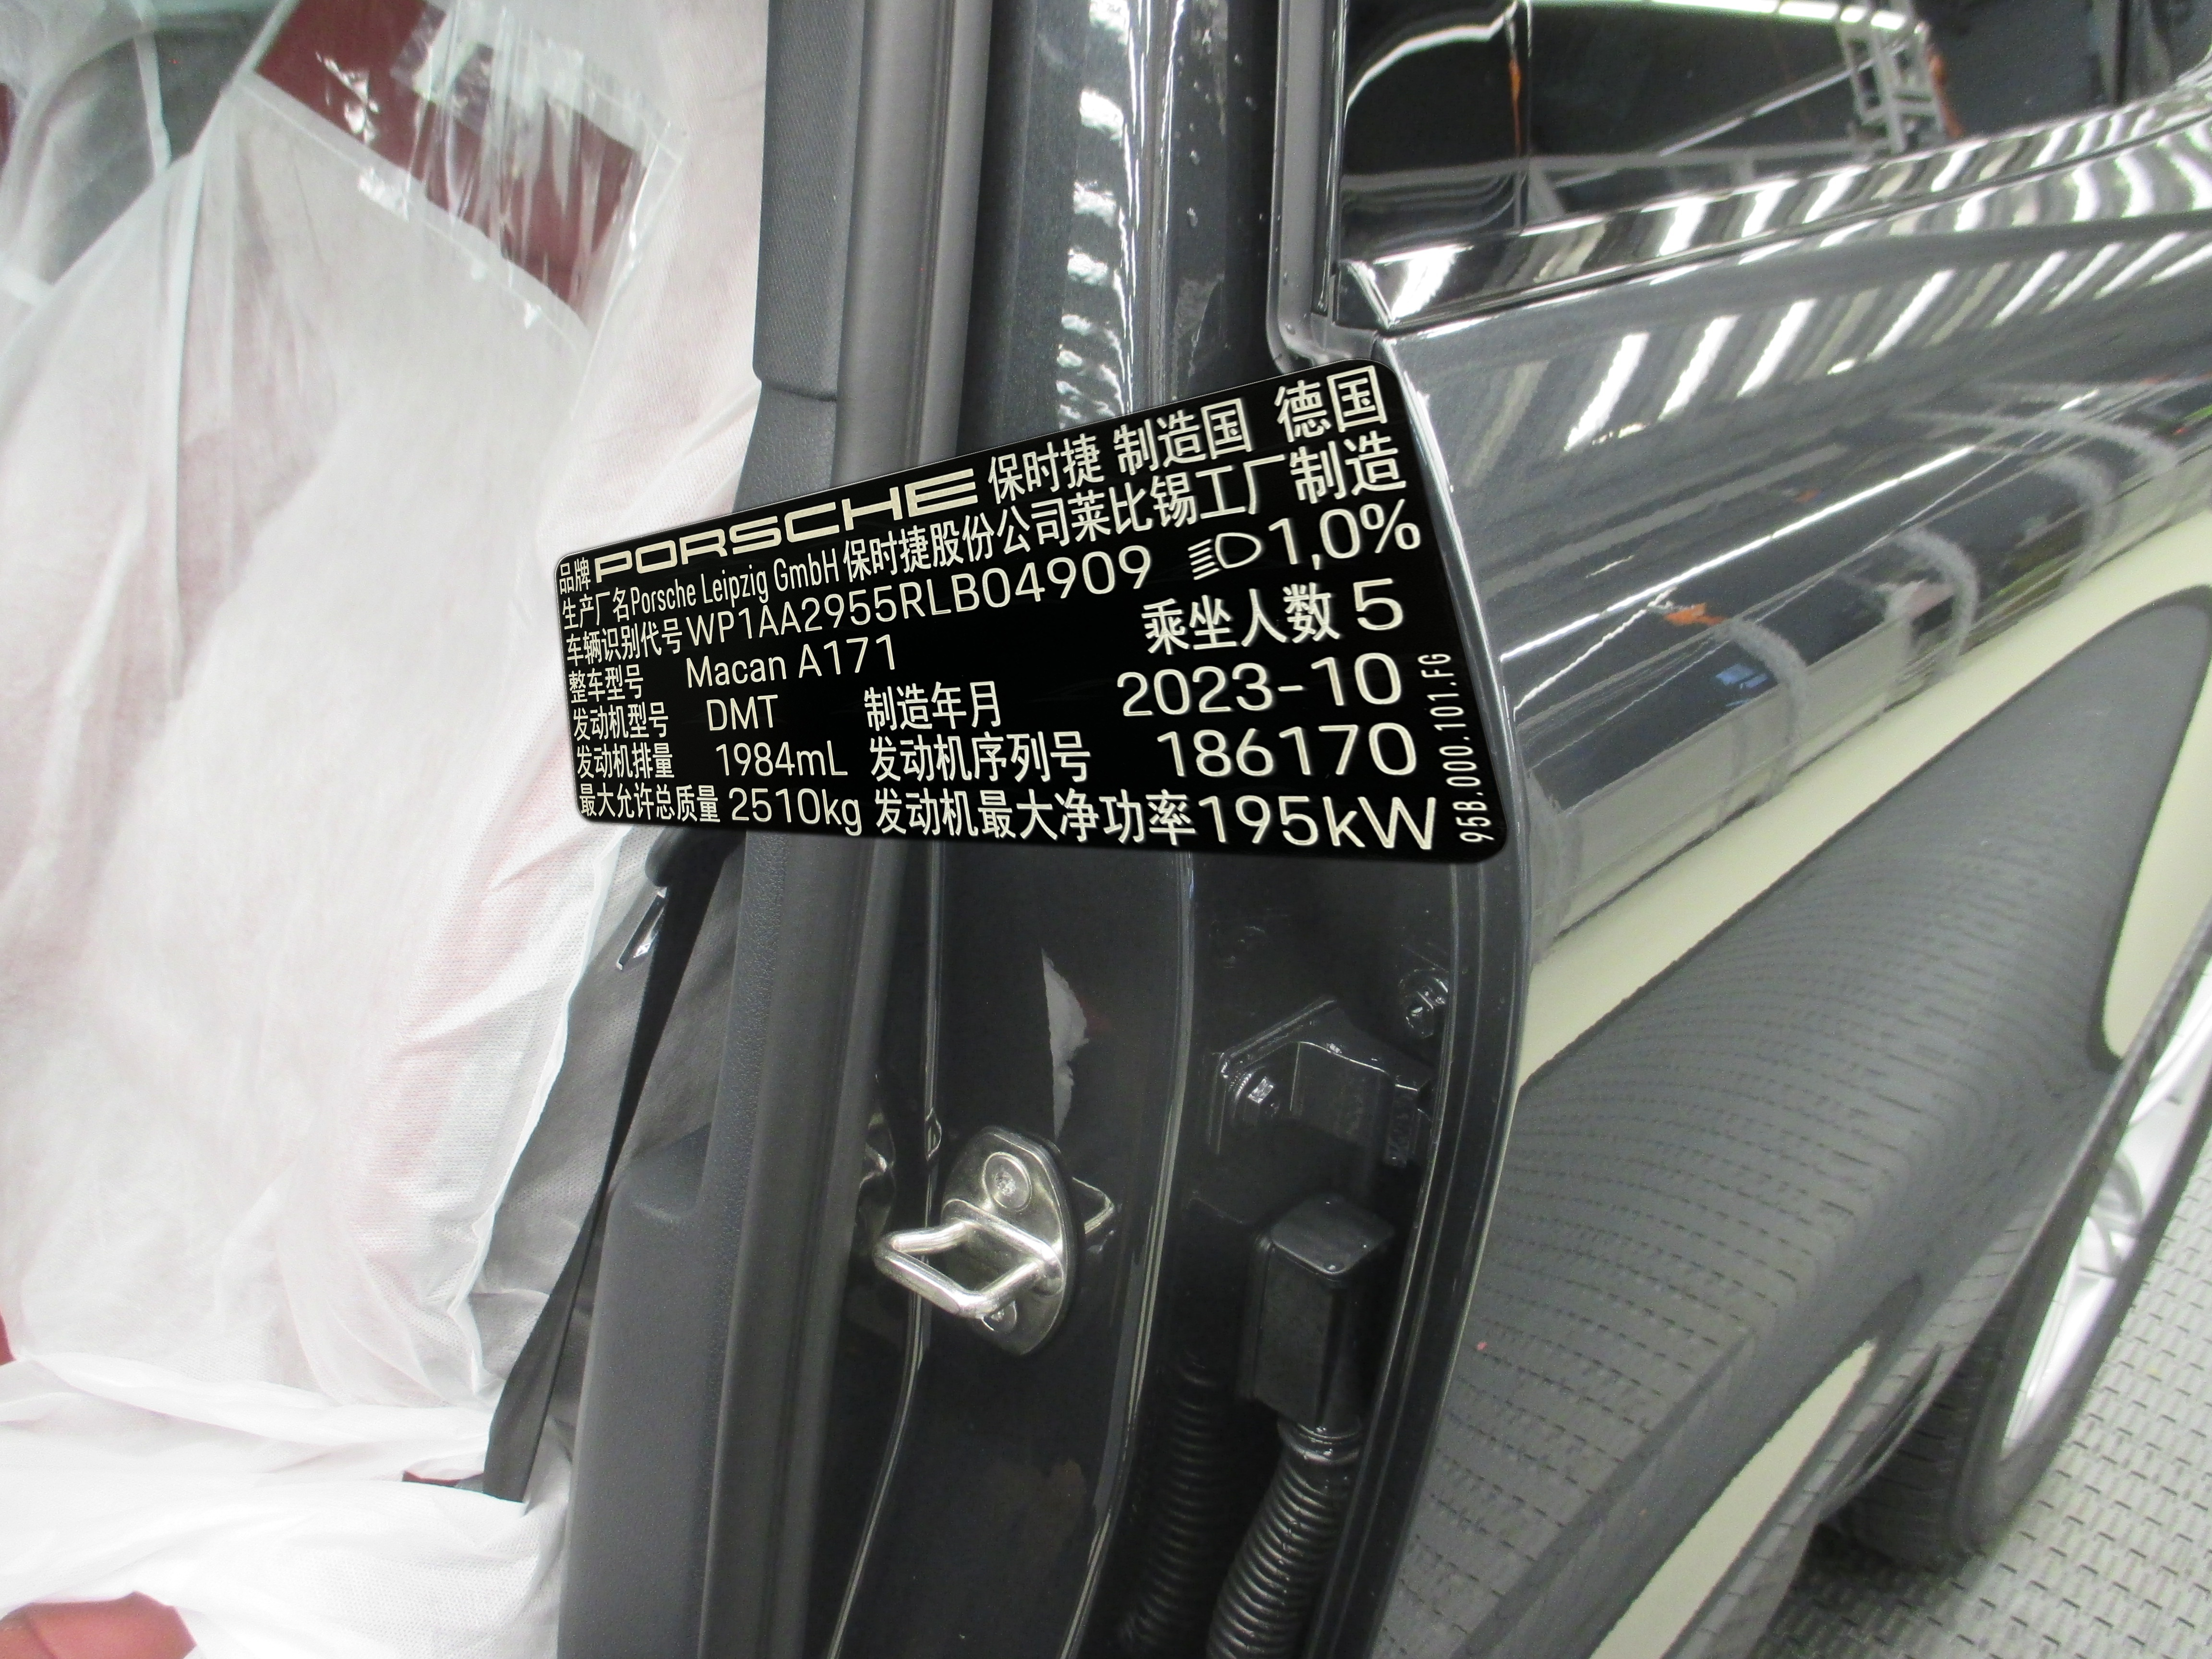Typlabel-China: (556, 359, 1508, 864)
